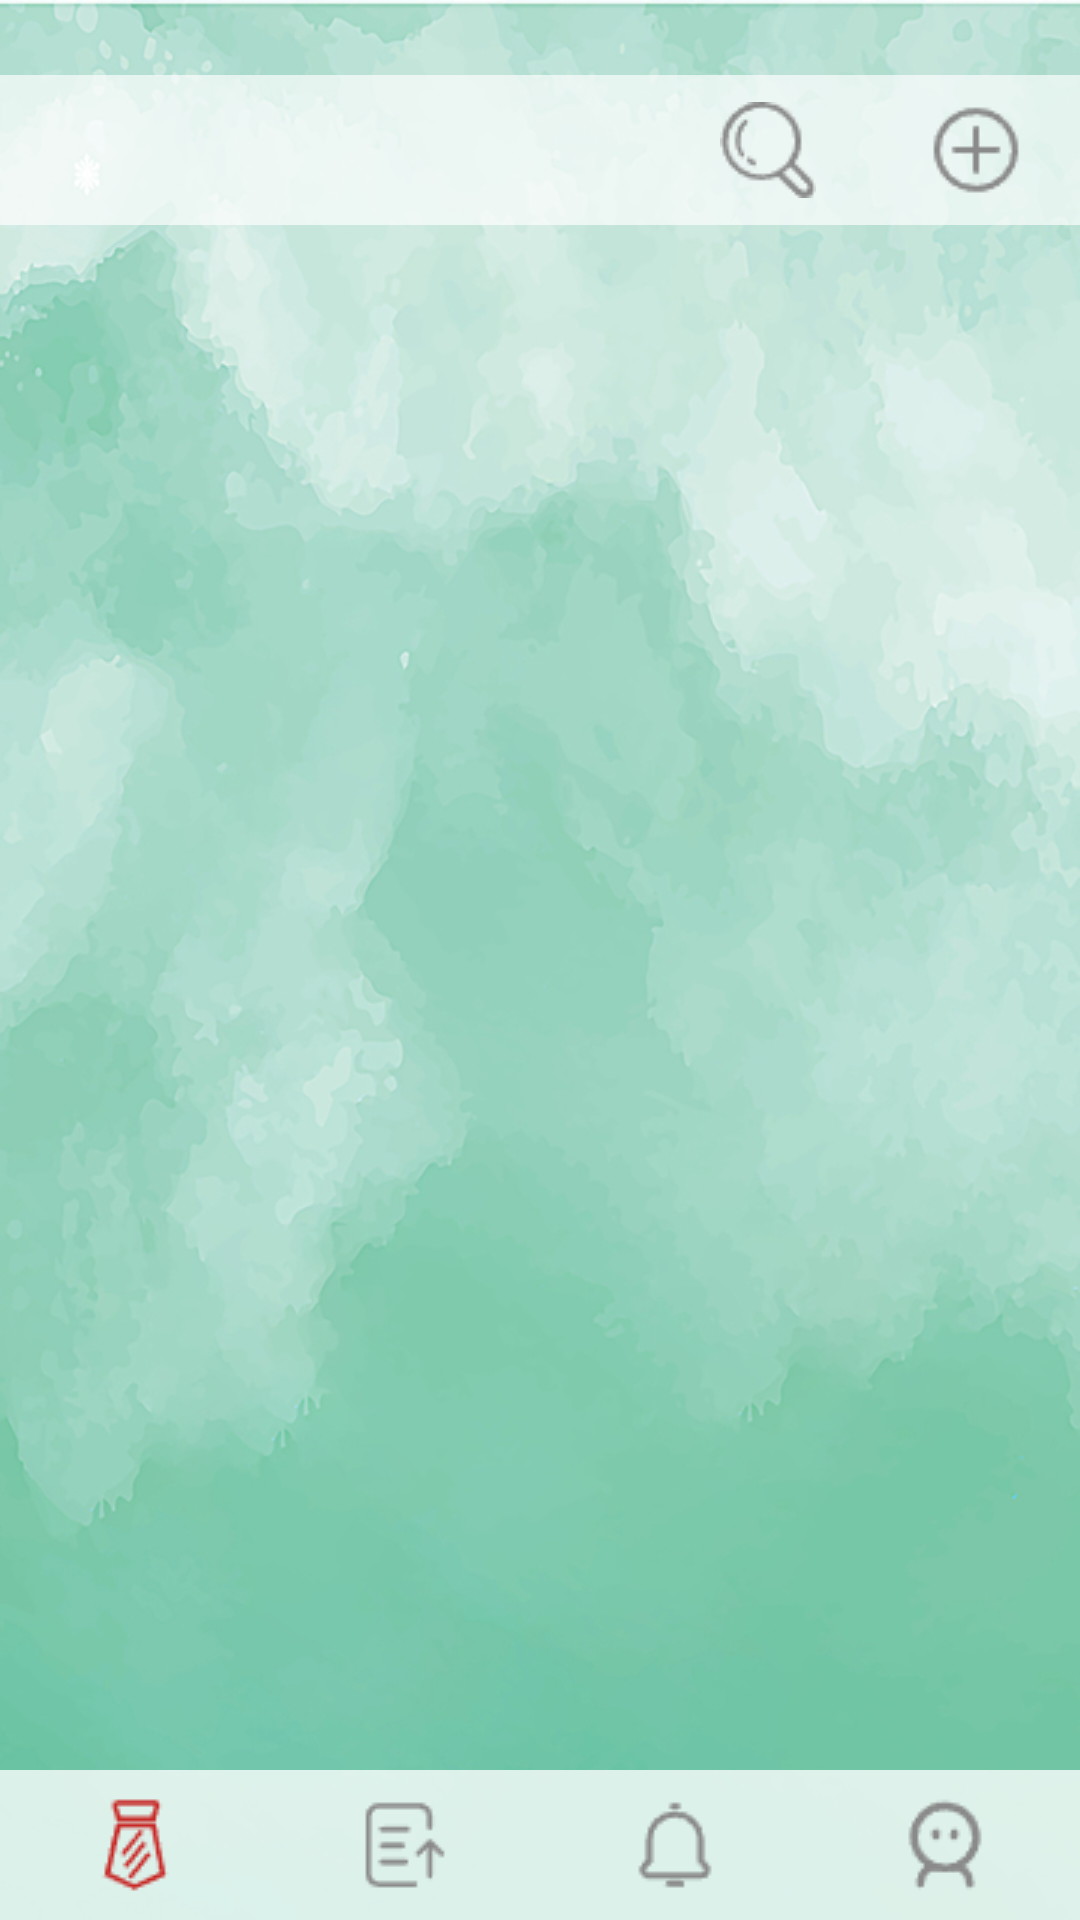

Locate icon controls on the screen. Image size 1080×1920, boxes as BBox(x1, y1, x2, y2).
jiahao: BBox(933, 107, 1019, 193)
jianli: BBox(365, 1802, 445, 1888)
sousuo: BBox(720, 102, 816, 198)
xiaoxi: BBox(638, 1802, 711, 1888)
zhiwei: BBox(103, 1799, 167, 1891)
